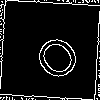O: (24, 24, 85, 85)
